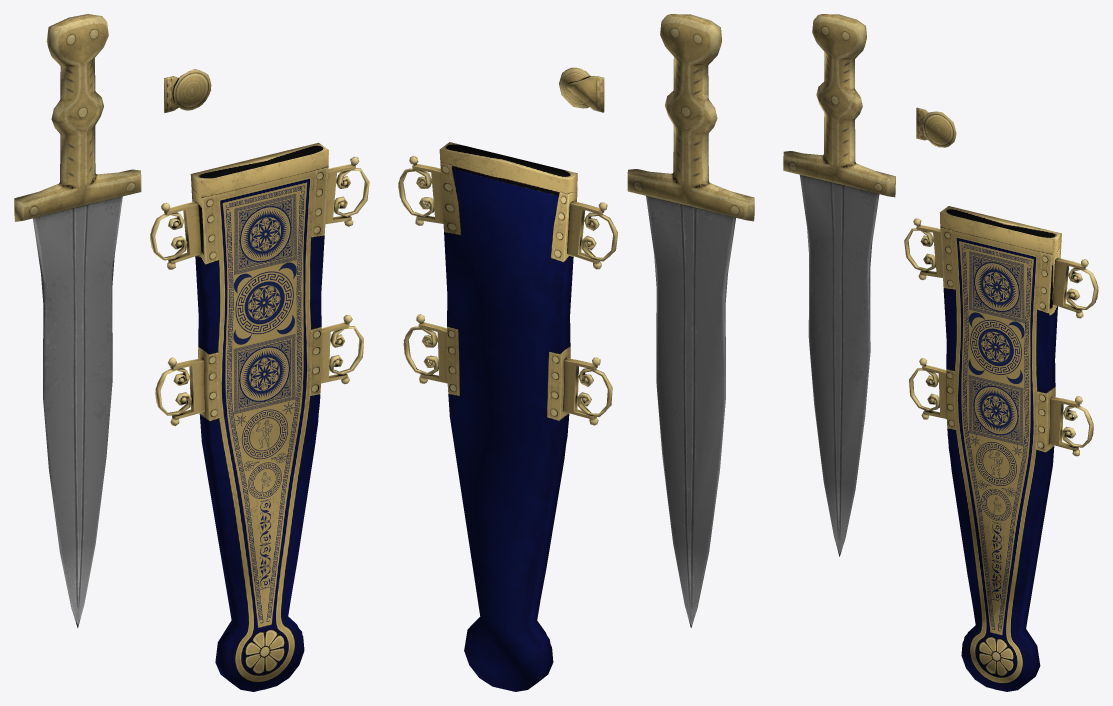
Rendered from pugio_davicolt.glb.
The picture shows the model from 3 angles, left to right: view 1: azimuth 30°, elevation 25°; view 2: azimuth 150°, elevation 25°; view 3: azimuth 330°, elevation 25°; orthographic projection. The views are drawn at different scales.
Visible parts, largest first — view 1: pugio scabbard lp_pugio_0; view 2: pugio scabbard lp_pugio_0; view 3: pugio scabbard lp_pugio_0.
Part boxes in pixels (box(x1,y1,x2,y2)): pugio scabbard lp_pugio_0: box(14, 14, 369, 691); pugio scabbard lp_pugio_0: box(398, 14, 754, 691); pugio scabbard lp_pugio_0: box(783, 14, 1098, 691).
Bounding box in the file's own units: 27.8 × 53.46 × 1.48.
1 material, 1 textured.
